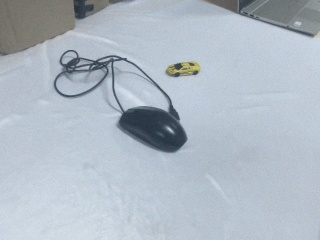box: (1, 1, 76, 56)
mouse: (118, 106, 188, 153)
toy_car: (164, 57, 202, 79)
